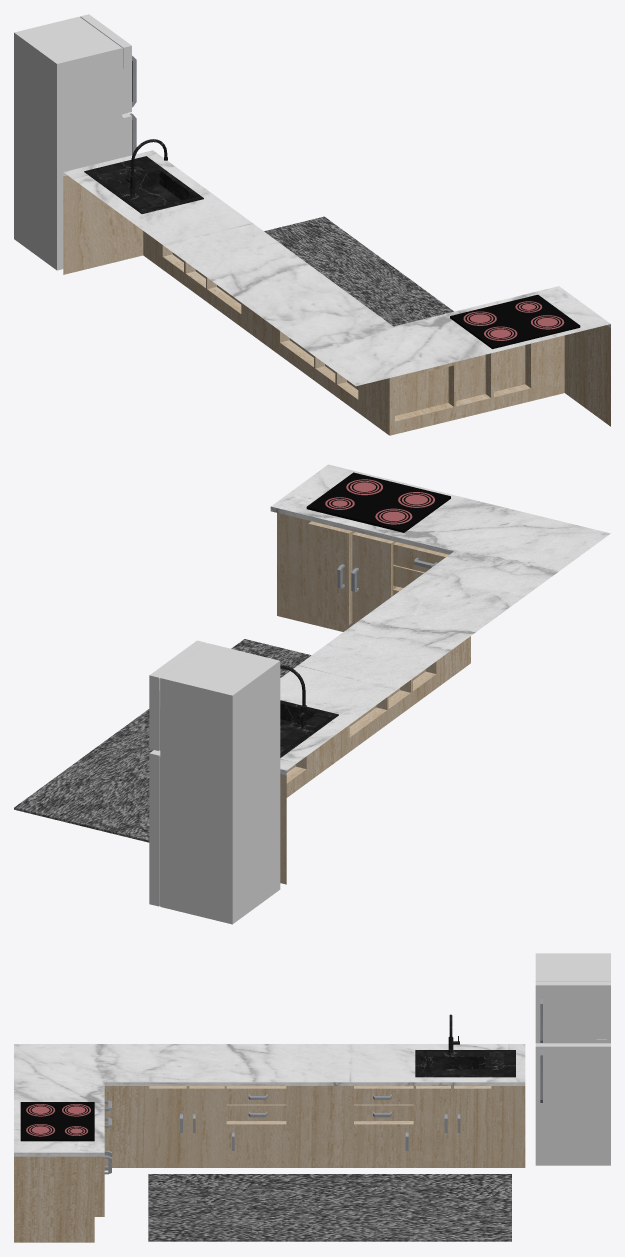
File: Kitchen_Furniture.fbx
3 renders of one model, top to bottom at view 1: azimuth 30°, elevation 25°; view 2: azimuth 150°, elevation 25°; view 3: azimuth 270°, elevation 25°, orthographic. The views are drawn at different scales.
Visible parts, largest first — view 1: kitchen unit, fridge, Plane; view 2: kitchen unit, fridge, Plane; view 3: kitchen unit, Plane, fridge.
Part boxes in pixels (bbox=[...]): kitchen unit: bbox=[63, 139, 610, 435]; fridge: bbox=[14, 14, 136, 270]; Plane: bbox=[264, 216, 453, 326]; kitchen unit: bbox=[270, 464, 610, 884]; fridge: bbox=[149, 640, 280, 924]; Plane: bbox=[14, 639, 311, 842]; kitchen unit: bbox=[14, 1014, 525, 1242]; Plane: bbox=[148, 1174, 511, 1241]; fridge: bbox=[535, 953, 610, 1165].
Size of the model in its own units: 0.3657 by 0.2828 by 0.8477.
